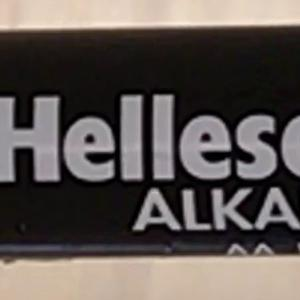keyword: (123, 179, 245, 240)
